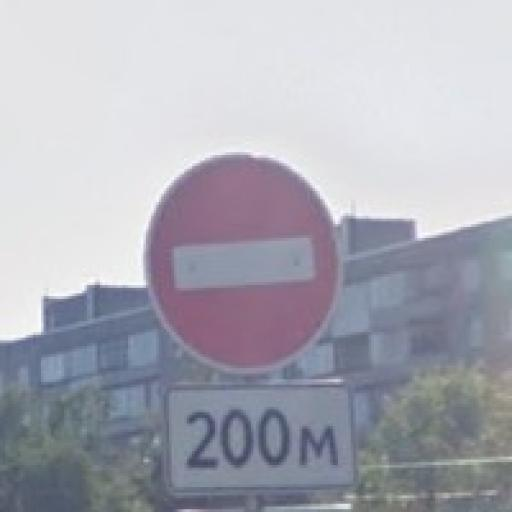traffic_sign: (145, 151, 347, 378)
